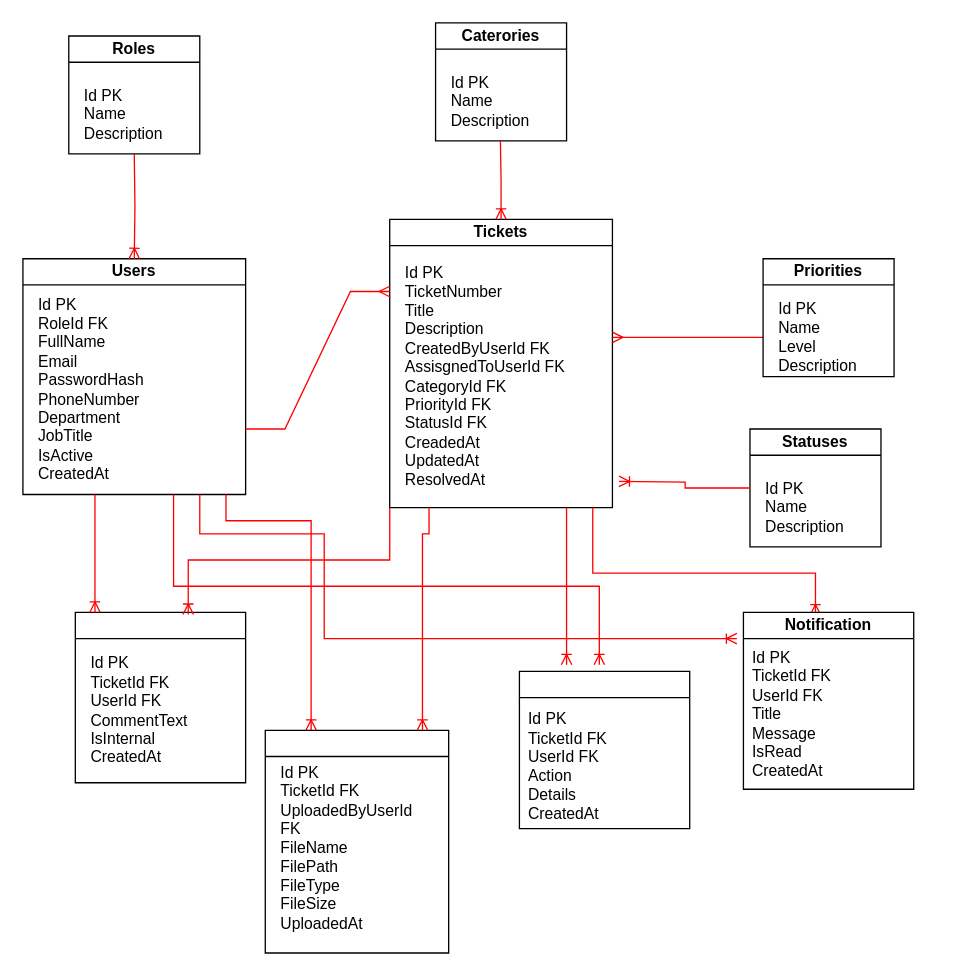
The diagram is 956 pixels wide and 976 high, and some of its shapes have lost their labels. The shapes that lost their labels are listed below. From the top down, each one's box as (x1, y1, x2, y2) in pixels, then its label:
(74, 611, 246, 783): TicketComments
(518, 670, 690, 829): ActivityLogs
(264, 729, 449, 953): TicketAttachments
